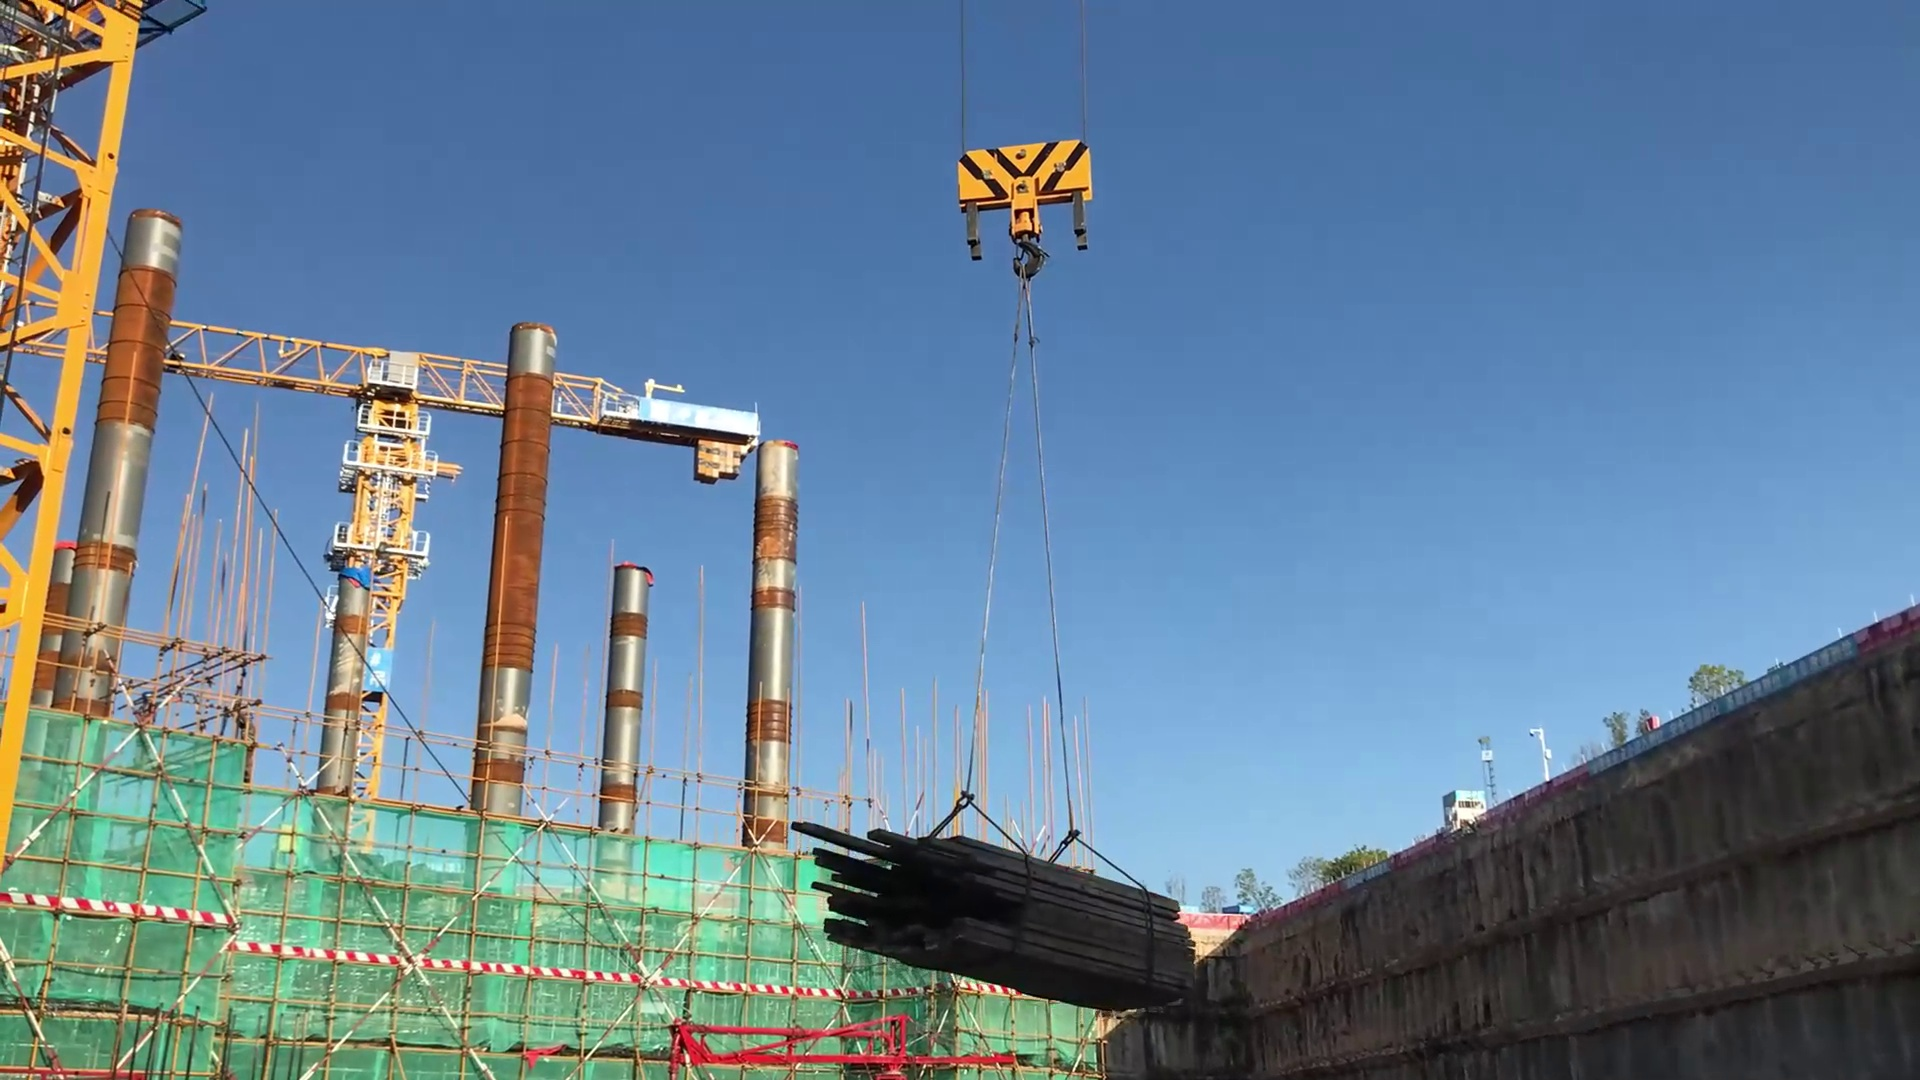hook: (951, 137, 1112, 287)
slogan: (1578, 629, 1867, 767)
wood: (758, 785, 1240, 1023)
